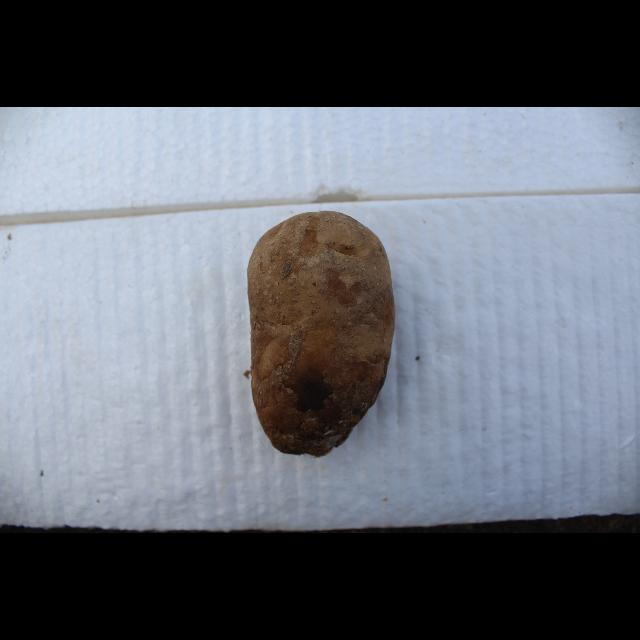Diseased-fungal potato: (242, 206, 398, 468)
